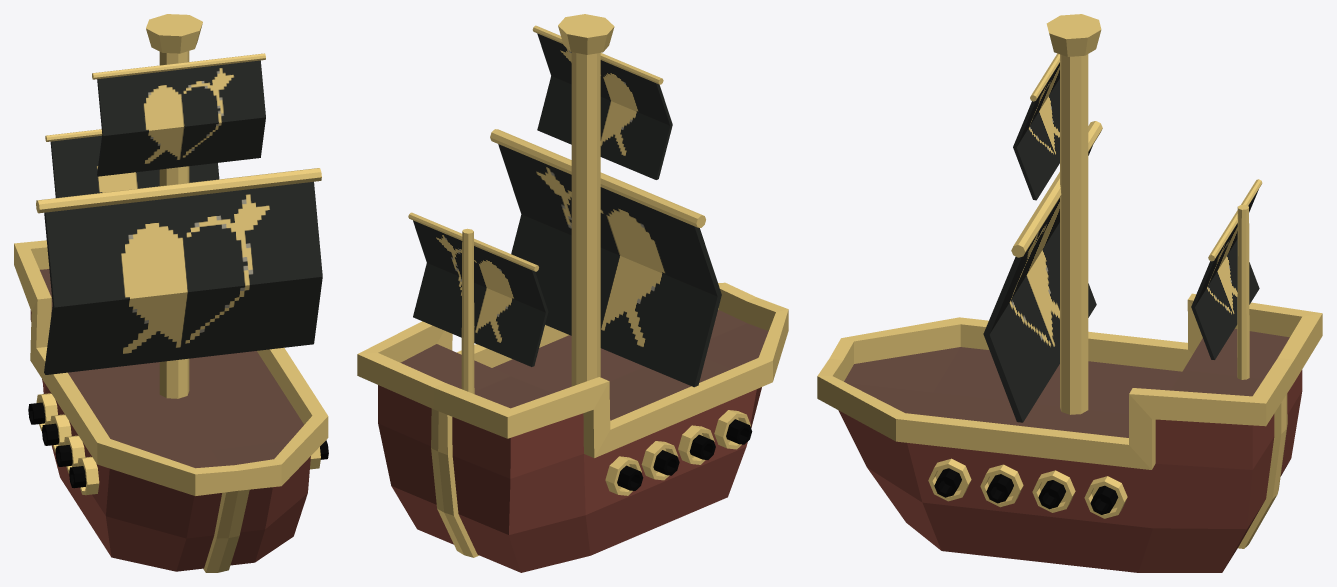
3 views of the same model, side by side, from view 1: azimuth 30°, elevation 25°; view 2: azimuth 150°, elevation 25°; view 3: azimuth 270°, elevation 25° (orthographic). The views are drawn at different scales.
Visible parts, largest first — view 1: PirateShip; view 2: PirateShip; view 3: PirateShip.
Part boxes in pixels (x1,y1,x2,y2): PirateShip: (14,14,328,572); PirateShip: (357,14,788,572); PirateShip: (817,14,1322,572).
Size of the model in its own units: 3.48 by 5.89 by 5.41.
6 materials, 1 textured.
